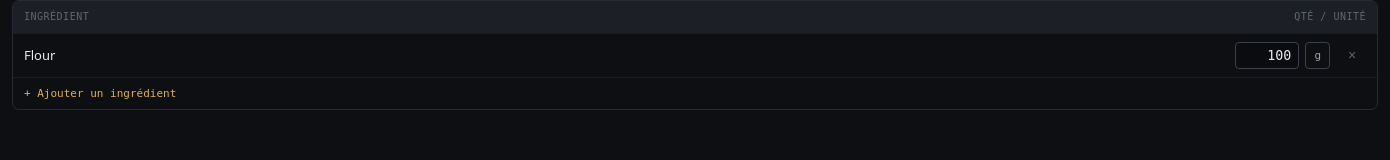
Test: IngredientBlock — arithmetic quantity (B-108) › evaluates the expression on blur and stores the result
Replace the text in the field with "950/2" at (1267, 55), box left=1235, top=42, right=1299, bottom=68
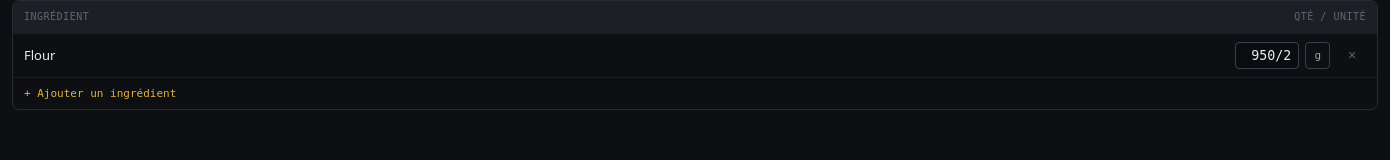
Leave the field, box left=1235, top=42, right=1299, bottom=68
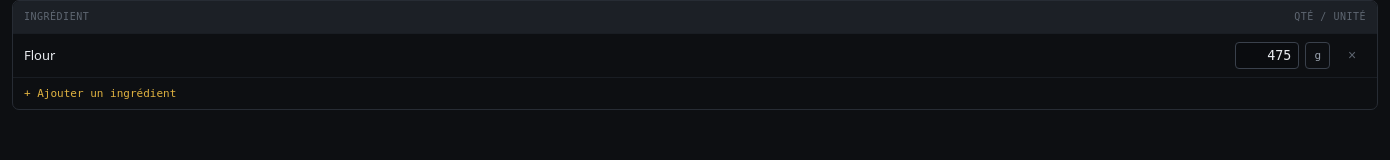
Check: the field holds "475", box left=1235, top=42, right=1299, bottom=68
